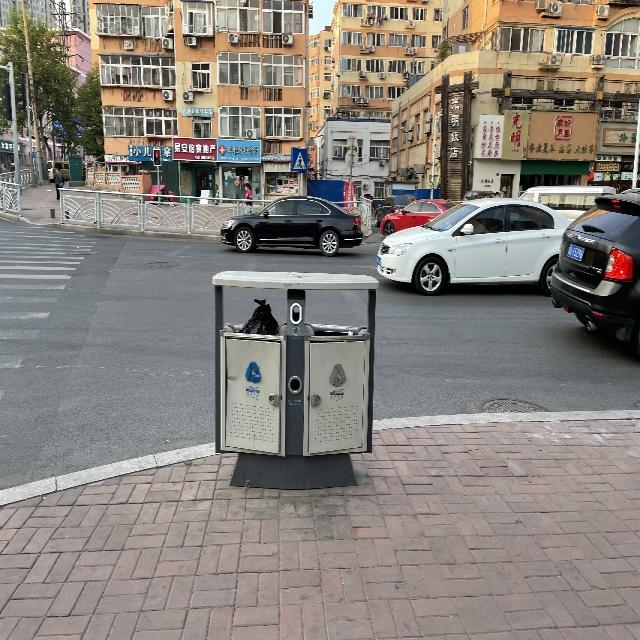overflow: (211, 269, 378, 488)
